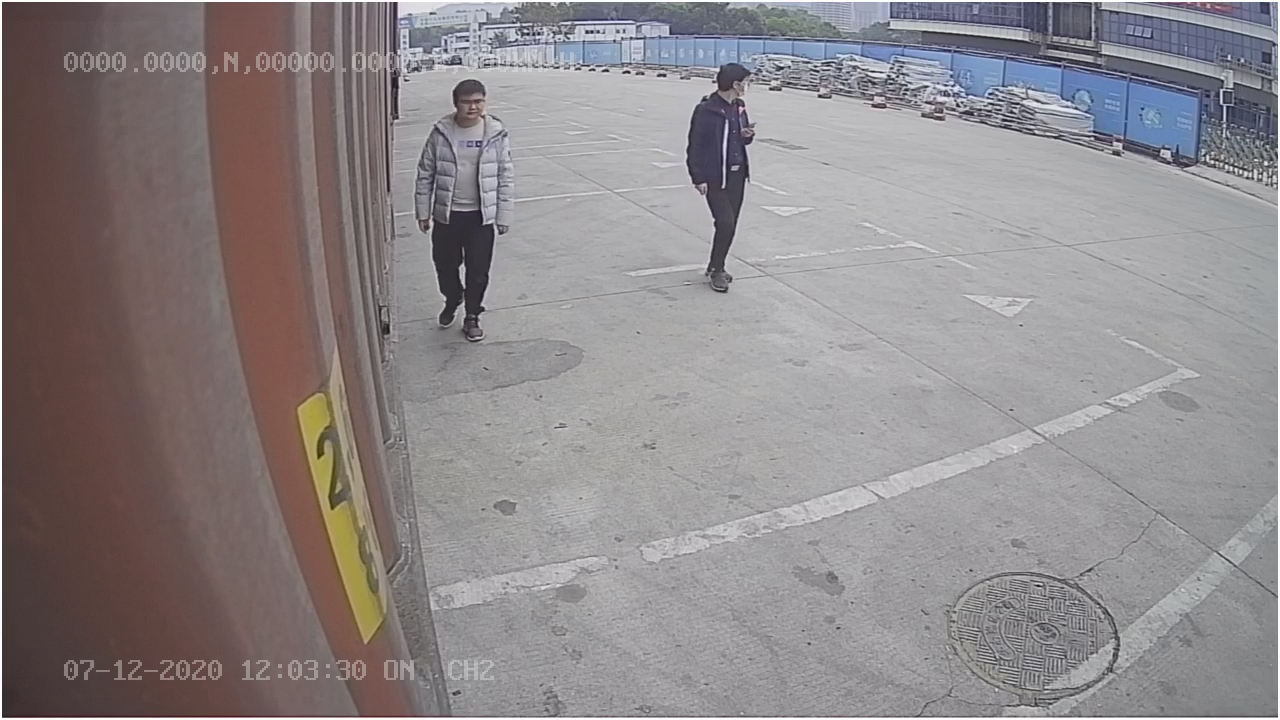person: (414, 81, 521, 340), (683, 61, 759, 297)
